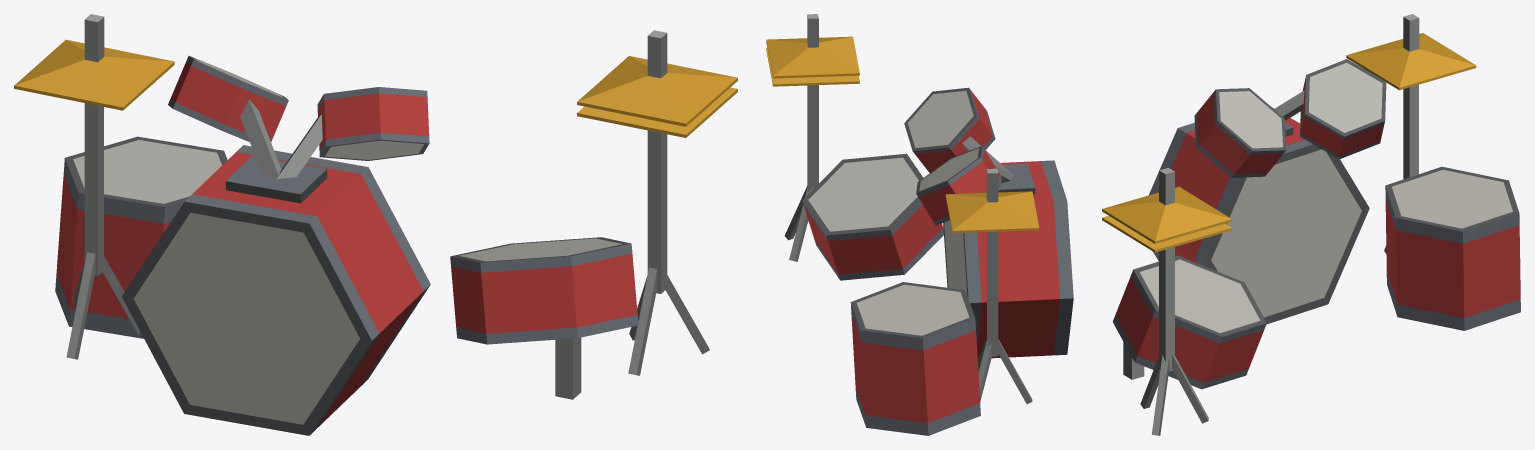
3 renders of one model, left to right at view 1: azimuth 30°, elevation 25°; view 2: azimuth 150°, elevation 25°; view 3: azimuth 270°, elevation 25°, orthographic. The views are drawn at different scales.
Parts seen in each view (by area): view 1: Mesh_0; view 2: Mesh_0; view 3: Mesh_0.
Part boxes in pixels (bbox=[...]): Mesh_0: bbox=[14, 14, 737, 435]; Mesh_0: bbox=[766, 14, 1073, 435]; Mesh_0: bbox=[1102, 14, 1520, 435].
Bounding box in the file's own units: 8.25 × 4.71 × 7.
Materials: 1 (1 with a texture image).
